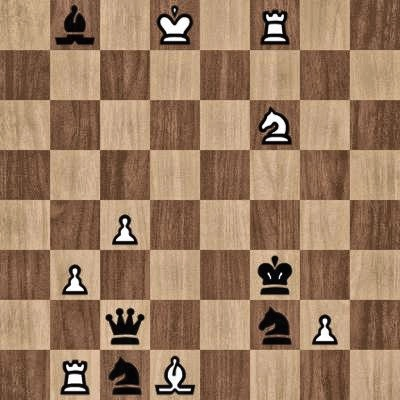black-bishop: (50, 0, 100, 50)
black-king: (250, 250, 300, 300)
black-knight: (250, 300, 300, 350), (100, 350, 150, 400)
black-queen: (100, 300, 150, 350)
white-bishop: (150, 350, 200, 400)
white-king: (150, 0, 200, 50)
white-knight: (250, 100, 300, 150)
white-pawn: (100, 200, 150, 250), (50, 250, 100, 300), (300, 300, 350, 350)
white-rook: (250, 0, 300, 50), (50, 350, 100, 400)
